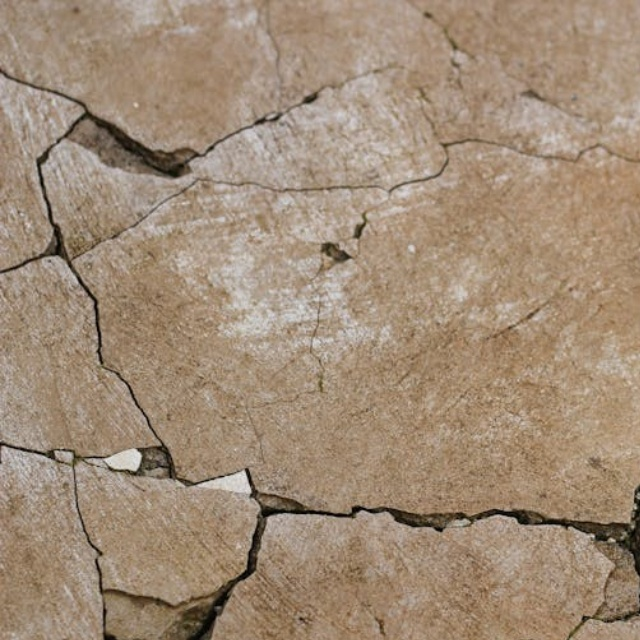细微裂纹: (124, 120, 640, 217), (312, 590, 640, 640)
网状裂隙: (0, 394, 358, 640)
